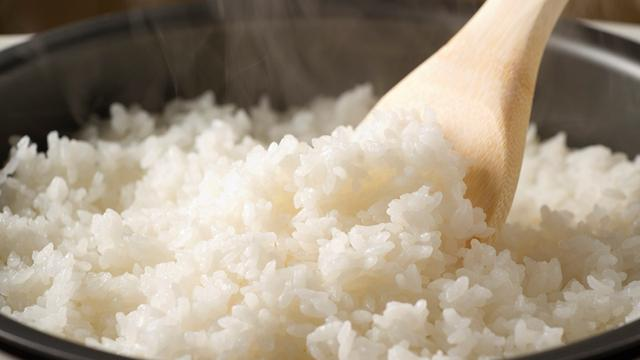Nasi Putih: (24, 90, 555, 359)
